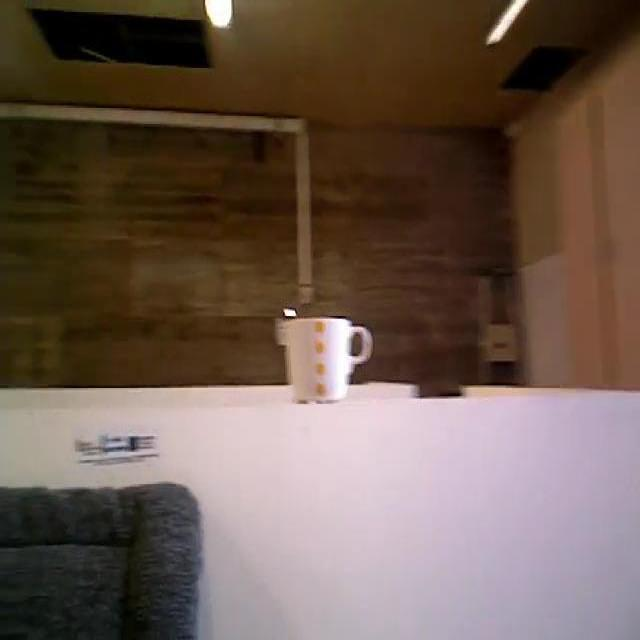cup: (280, 300, 374, 401)
